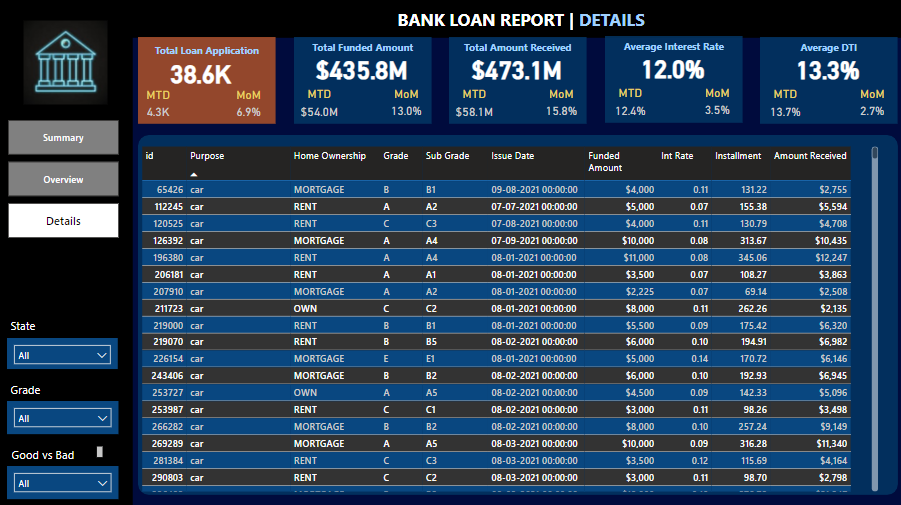

The dashboard page shown, as its layout file describes it:
{"tool":"powerbi","page":{"name":"Details","canvas":[1280,720],"ordinal":2},"visuals":[{"type":"shape","box":[860.3,52.4,195,123.4],"z":0,"group":"g5"},{"type":"shape","box":[198.4,53.6,195,123.3],"z":0,"group":"g2"},{"type":"shape","box":[419.1,53.6,195,123.4],"z":0,"group":"g3"},{"type":"shape","box":[639.2,53.6,195,123.4],"z":0,"group":"g4"},{"type":"shape","box":[1079.3,53.6,195,123.4],"z":0,"group":"g6"},{"type":"shape","box":[198.4,192.8,1077.2,510.2],"z":0},{"type":"shape","box":[0,0,1279.8,55.3],"z":1000},{"type":"card","title":"Total Loan Application","fields":{"Values":["bank_loan financial_loan.Avg Interest Rate"]},"box":[884.2,74.6,143.3,43.3],"z":1000,"group":"g5"},{"type":"card","title":"Total Loan Application","fields":{"Values":["bank_loan financial_loan.Total Funded Amount"]},"box":[443,75.8,143.3,43.3],"z":1000,"group":"g3"},{"type":"card","title":"Total Loan Application","fields":{"Values":["bank_loan financial_loan.Total Amount Received"]},"box":[663.1,75.8,143.3,43.3],"z":1000,"group":"g4"},{"type":"card","title":"Total Loan Application","fields":{"Values":["bank_loan financial_loan.Average DTI"]},"box":[1103.2,75.8,143.3,43.3],"z":1000,"group":"g6"},{"type":"card","title":"Total Loan Application","fields":{"Values":["bank_loan financial_loan.Total Loan Application"]},"box":[235.1,78.9,103.7,49.9],"z":1000,"group":"g2"},{"type":"textbox","box":[860.3,52.4,195,33.4],"z":2000,"group":"g5"},{"type":"textbox","box":[419.1,53.6,195,33.4],"z":2000,"group":"g3"},{"type":"textbox","box":[639.2,53.6,195,33.4],"z":2000,"group":"g4"},{"type":"textbox","box":[1079.3,53.6,195,33.4],"z":2000,"group":"g6"},{"type":"shape","box":[0,53.9,191.3,666.1],"z":2000},{"type":"textbox","box":[200.6,57.7,189.6,32.7],"z":2000,"group":"g2"},{"type":"group","id":"g1","title":"Group 2","box":[198.4,53.6,195.6,123.3],"z":3000},{"type":"group","id":"g2","title":"Group 1","box":[198.4,53.6,195,123.3],"z":3000,"group":"g1"},{"type":"card","title":"MTD","fields":{"Values":["bank_loan financial_loan.MTD Avg Int Rate"]},"box":[860.9,123,71.7,53.3],"z":3000,"group":"g5"},{"type":"card","title":"MTD","fields":{"Values":["bank_loan financial_loan.MTD Funded Amount"]},"box":[419.7,124.2,71.7,53.3],"z":3000,"group":"g3"},{"type":"card","title":"MTD","fields":{"Values":["bank_loan financial_loan.MTD Amount Received"]},"box":[639.8,124.2,71.7,53.3],"z":3000,"group":"g4"},{"type":"card","title":"MTD","fields":{"Values":["bank_loan financial_loan.MTD Avg DTI"]},"box":[1079.9,124.2,71.7,53.3],"z":3000,"group":"g6"},{"type":"card","title":"MoM","fields":{"Values":["bank_loan financial_loan.MoM Loan Application"]},"box":[320.5,126.5,69.7,49.9],"z":3000,"group":"g2"},{"type":"group","id":"g3","title":"Group 1","box":[419.1,53.6,195,123.9],"z":4000},{"type":"card","title":"MoM","fields":{"Values":["bank_loan financial_loan.MoM Avg Int Rate"]},"box":[983.6,122.7,71.7,51],"z":4000,"group":"g5"},{"type":"card","title":"MoM","fields":{"Values":["bank_loan financial_loan.MoM Funded Amount"]},"box":[542.4,123.9,71.7,51],"z":4000,"group":"g3"},{"type":"card","title":"MoM","fields":{"Values":["bank_loan financial_loan.MoM Amount Received"]},"box":[762.5,123.9,71.7,51],"z":4000,"group":"g4"},{"type":"card","title":"MoM","fields":{"Values":["bank_loan financial_loan.MoM Avg DTI"]},"box":[1202.6,123.9,71.7,51],"z":4000,"group":"g6"},{"type":"card","title":"MTD","fields":{"Values":["bank_loan financial_loan.MTD Loan Application"]},"box":[198.9,126.4,56.9,50],"z":4000,"group":"g1"},{"type":"group","id":"g4","title":"Group 1","box":[639.2,53.6,195,123.3],"z":5000},{"type":"group","id":"g5","title":"Group 1","box":[860.3,52.4,195.6,123.3],"z":6000},{"type":"group","id":"g6","title":"Group 1","box":[1079.3,53.6,195,123.3],"z":7000},{"type":"slicer","fields":{"Values":["bank_loan financial_loan.address_state"]},"box":[12.8,480.5,157.3,43.9],"z":8000},{"type":"textbox","box":[12.8,446.5,62.4,34],"z":9000},{"type":"slicer","fields":{"Values":["bank_loan financial_loan.grade"]},"box":[12.7,569.5,158.3,46.7],"z":10000},{"type":"textbox","box":[12.8,537.2,68,32.6],"z":11000},{"type":"slicer","fields":{"Values":["bank_loan financial_loan.Good vs Bad Loan"]},"box":[12.7,661.9,158.3,46.7],"z":12000},{"type":"textbox","box":[13.9,629.8,138.9,32.6],"z":13000},{"type":"textbox","box":[561.3,7.1,384.1,43.9],"z":14000},{"type":"tableEx","fields":{"Values":["bank_loan financial_loan.id","bank_loan financial_loan.purpose","bank_loan financial_loan.home_ownership","bank_loan financial_loan.grade","bank_loan financial_loan.sub_grade","bank_loan financial_loan.issue_date","bank_loan financial_loan.Total Funded Amount","Sum(bank_loan financial_loan.int_rate)","Sum(bank_loan financial_loan.installment)","bank_loan financial_loan.Total Amount Received"]},"box":[198.4,204.1,1054.5,498.9],"z":15000},{"type":"pageNavigator","box":[14.2,171.5,157.3,167.2],"z":16000},{"type":"image","box":[31.2,25.5,129,129],"z":17000}]}

Visuals, with their boxes on the page's 1280x720 design canvas (x1, y1, x2, y2). These are canvas units, not pixel positions in the 901x505 screenshot, which may show the page scaled, cropped or inside an application window:
shape: crop(860, 52, 1055, 176)
shape: crop(198, 54, 393, 177)
shape: crop(419, 54, 614, 177)
shape: crop(639, 54, 834, 177)
shape: crop(1079, 54, 1274, 177)
shape: crop(198, 193, 1276, 703)
shape: crop(0, 0, 1280, 55)
"Total Loan Application" card: crop(884, 75, 1028, 118)
"Total Loan Application" card: crop(443, 76, 586, 119)
"Total Loan Application" card: crop(663, 76, 806, 119)
"Total Loan Application" card: crop(1103, 76, 1246, 119)
"Total Loan Application" card: crop(235, 79, 339, 129)
textbox: crop(860, 52, 1055, 86)
textbox: crop(419, 54, 614, 87)
textbox: crop(639, 54, 834, 87)
textbox: crop(1079, 54, 1274, 87)
shape: crop(0, 54, 191, 720)
textbox: crop(201, 58, 390, 90)
"Group 2" group: crop(198, 54, 394, 177)
"Group 1" group: crop(198, 54, 393, 177)
"MTD" card: crop(861, 123, 933, 176)
"MTD" card: crop(420, 124, 491, 178)
"MTD" card: crop(640, 124, 712, 178)
"MTD" card: crop(1080, 124, 1152, 178)
"MoM" card: crop(320, 126, 390, 176)
"Group 1" group: crop(419, 54, 614, 178)
"MoM" card: crop(984, 123, 1055, 174)
"MoM" card: crop(542, 124, 614, 175)
"MoM" card: crop(762, 124, 834, 175)
"MoM" card: crop(1203, 124, 1274, 175)
"MTD" card: crop(199, 126, 256, 176)
"Group 1" group: crop(639, 54, 834, 177)
"Group 1" group: crop(860, 52, 1056, 176)
"Group 1" group: crop(1079, 54, 1274, 177)
slicer - bank_loan financial_loan.address_state: crop(13, 480, 170, 524)
textbox: crop(13, 446, 75, 480)
slicer - bank_loan financial_loan.grade: crop(13, 570, 171, 616)
textbox: crop(13, 537, 81, 570)
slicer - bank_loan financial_loan.Good vs Bad Loan: crop(13, 662, 171, 709)
textbox: crop(14, 630, 153, 662)
textbox: crop(561, 7, 945, 51)
tableEx - bank_loan financial_loan.id x bank_loan financial_loan.purpose: crop(198, 204, 1253, 703)
pageNavigator: crop(14, 172, 172, 339)
image: crop(31, 26, 160, 154)
